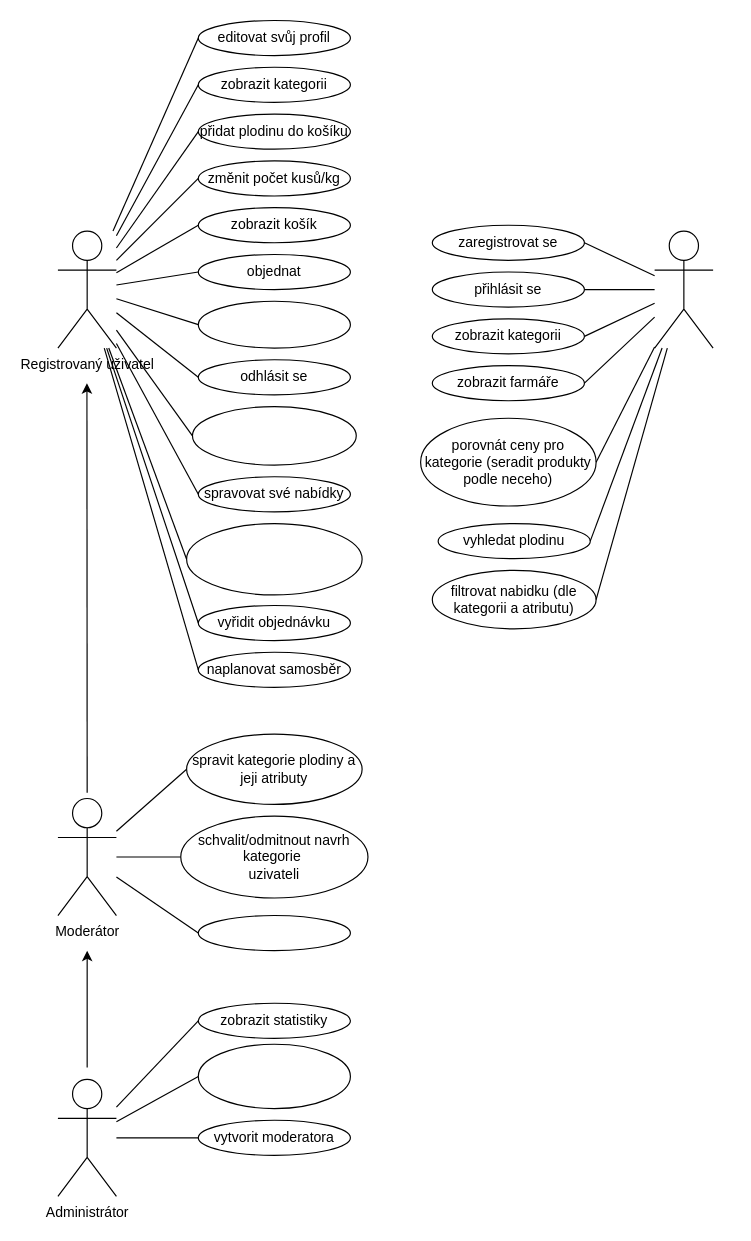
The diagram is 751 pixels wide and 1241 high, and some of its shapes have lost their labels. The shapes that lost their labels are listed below. From the top down, each one's centre as x and y in pixels, then its label:
At point (683, 289): "Neregistrovaný".
At point (273, 324): "hodnotit zakoupené produkty".
At point (273, 435): "vložit nabídku produktu do kategorii".
At point (273, 558): "aktualizovat dostupné množství nabízených plodin".
At point (273, 932): "smazat/upravit kategorie/zbozi".
At point (273, 1076): "spravit uzivatele/moderatora".
